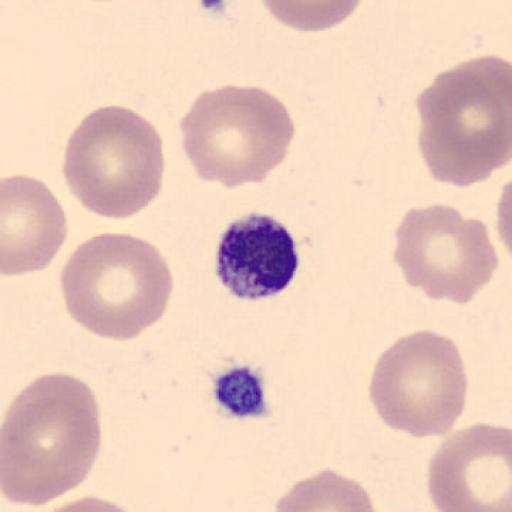Platelet: (211, 210, 302, 302), (208, 361, 272, 422)
RBC: (2, 370, 103, 508), (413, 54, 511, 190), (59, 230, 174, 344), (178, 82, 297, 190), (60, 102, 166, 221), (368, 329, 468, 440), (393, 202, 499, 306), (425, 421, 512, 512), (2, 173, 69, 277), (272, 467, 379, 512), (257, 0, 365, 34), (29, 493, 147, 512), (495, 179, 512, 262)
